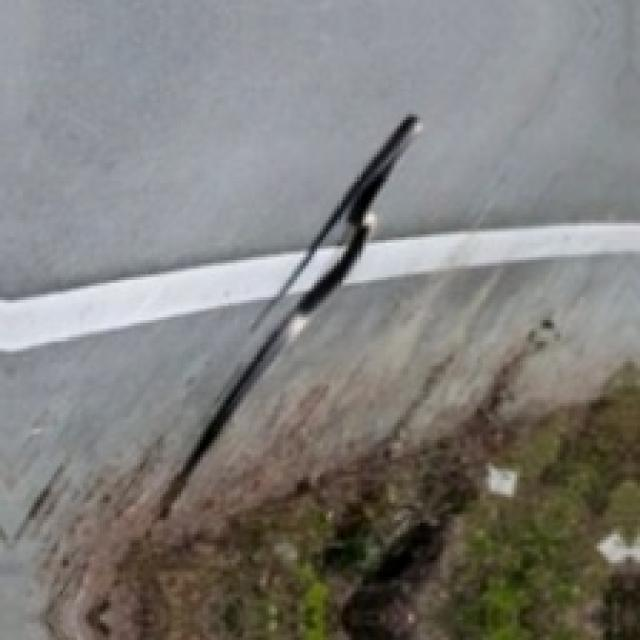king cobra: (154, 114, 420, 520)
